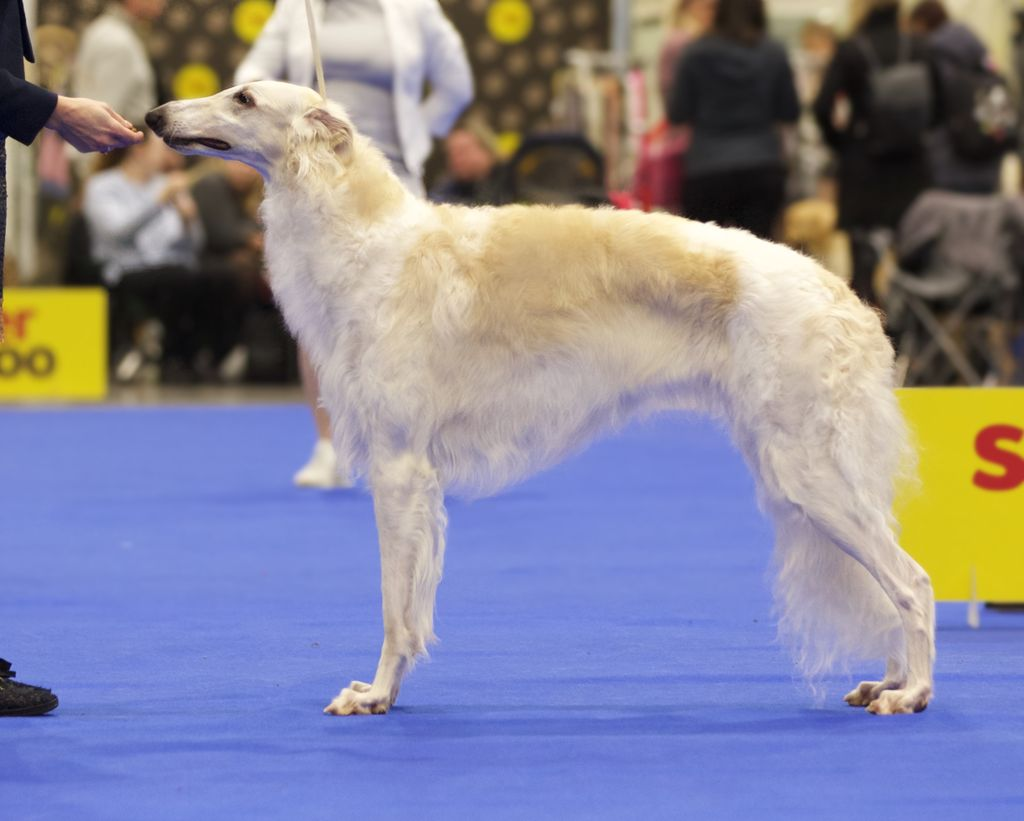borzoi: (137, 73, 955, 726)
